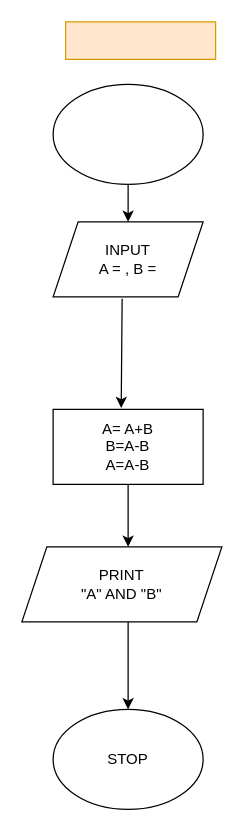
This 244x831 diagram has some shape labels left out. Each missing label, with the box of its shape:
START: (52, 83, 203, 184)
SWAP PROGRAM: (64, 21, 216, 59)
